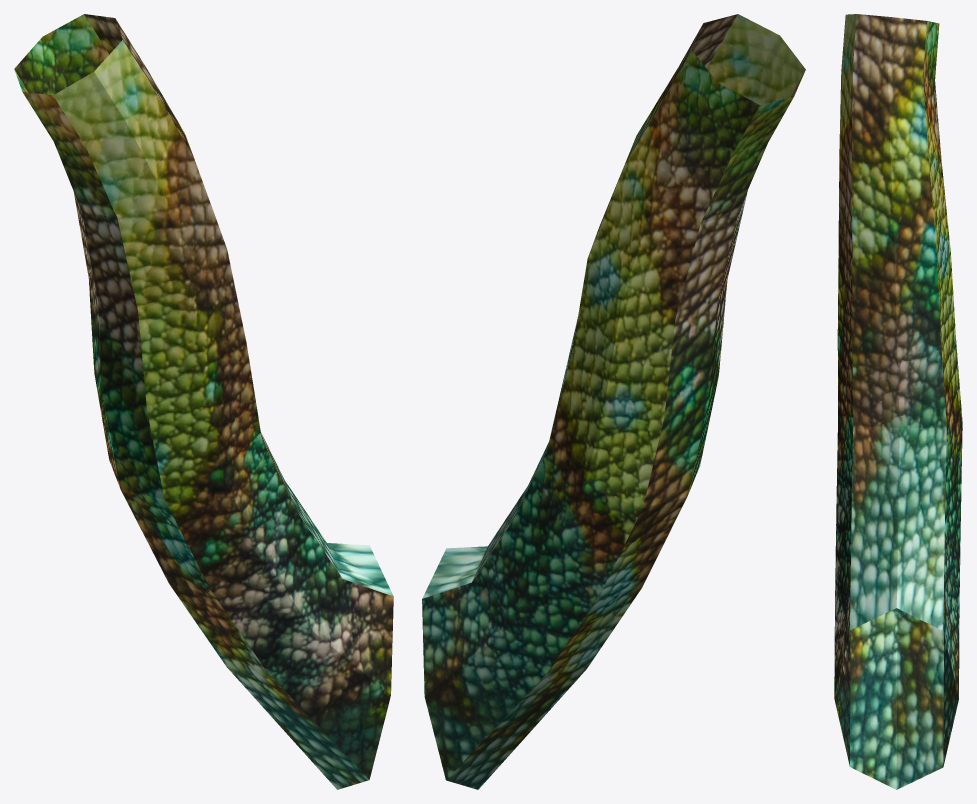
Rendered from monster_plant_branch.fbx.
3 renders of one model, left to right at view 1: azimuth 30°, elevation 25°; view 2: azimuth 150°, elevation 25°; view 3: azimuth 270°, elevation 25°, orthographic. The views are drawn at different scales.
Parts seen in each view (by area): view 1: monster_plant_1:Layer2; view 2: monster_plant_1:Layer2; view 3: monster_plant_1:Layer2.
Boxes of the visible parts, x1,y1,x2,y2 form: monster_plant_1:Layer2: (14, 14, 393, 789); monster_plant_1:Layer2: (422, 14, 805, 789); monster_plant_1:Layer2: (834, 14, 962, 789).
Size of the model in its own units: 184 by 417 by 71.04.
1 material, 1 textured.
